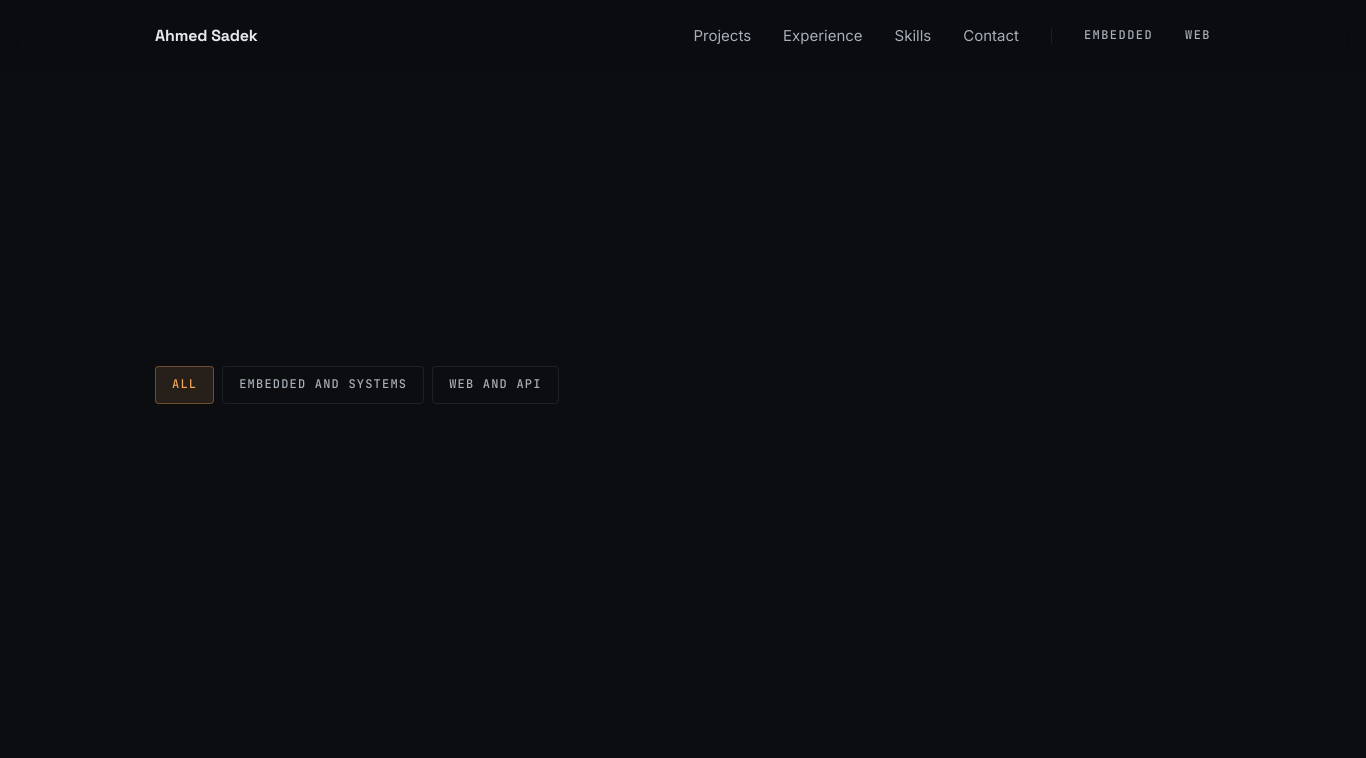
project filter › narrows to a single track when a filter is selected
This screenshot has width=1366, height=758.
(page scrolled)
Click the tab "Web and API" at coordinates (495, 385), box [432,366,559,404]
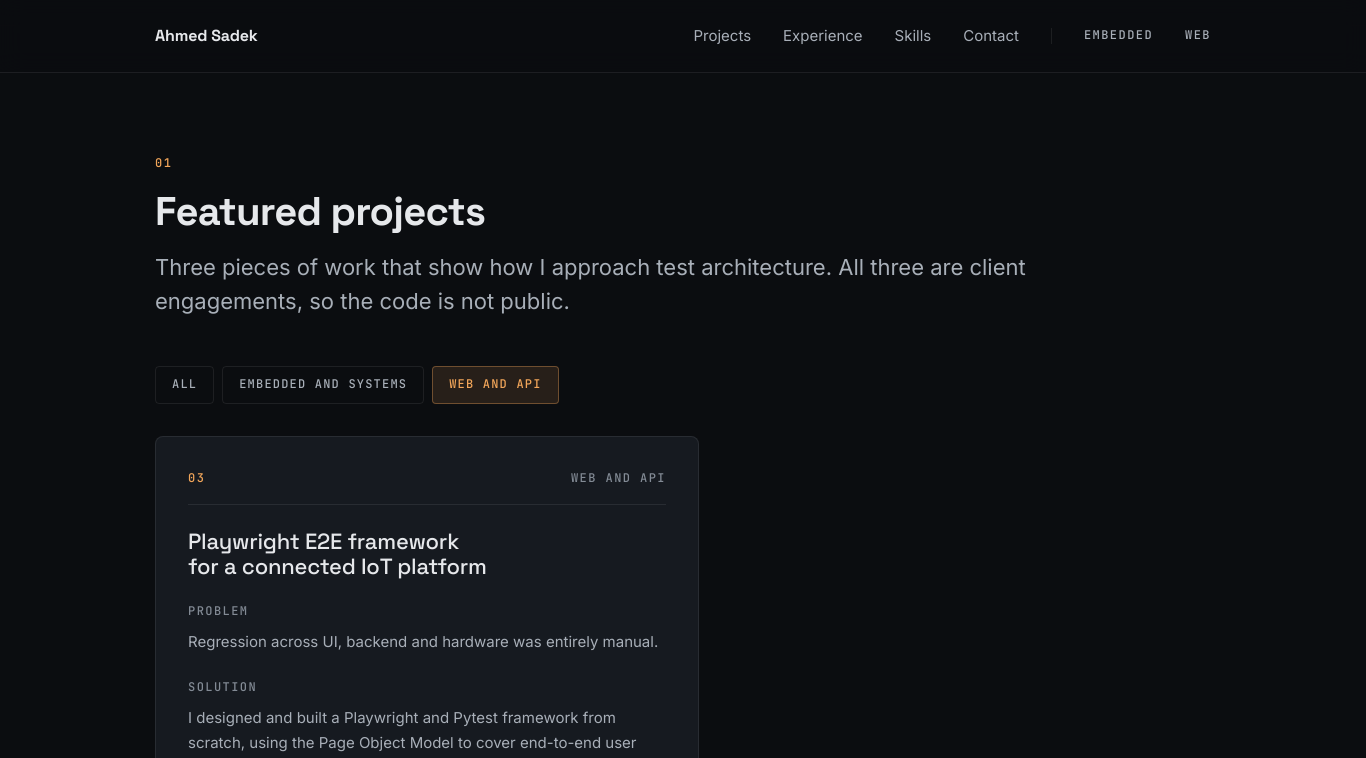
Now the heading "Playwright E2E framework for a connected IoT platform" is shown, box [188,527,487,580]
